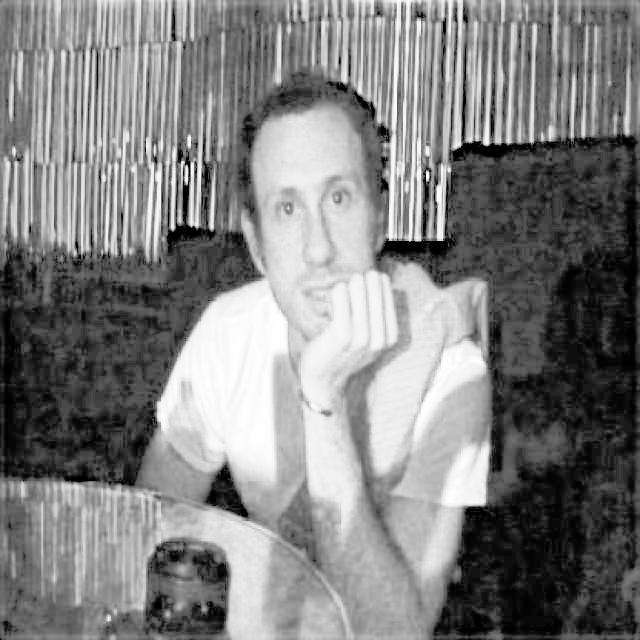Person: (134, 61, 491, 640)
